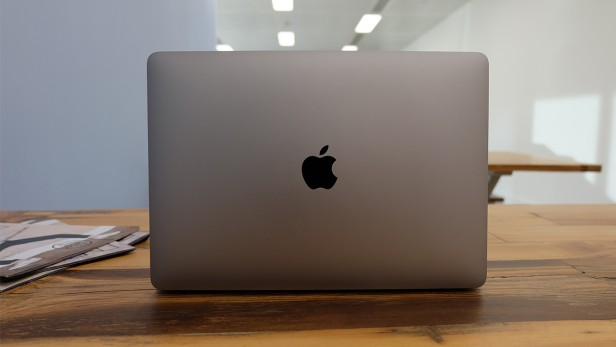apple: (295, 131, 357, 197)
